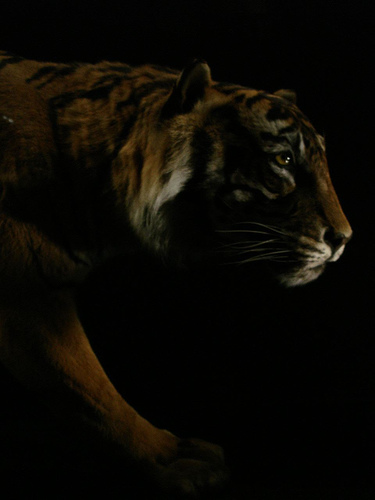Tigre: (13, 40, 346, 320)
